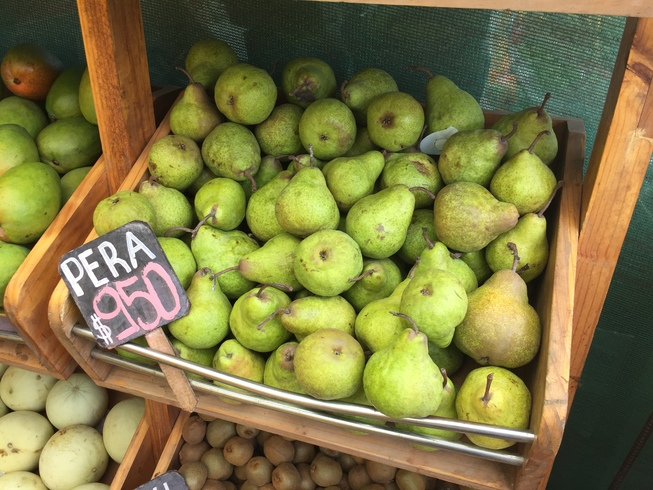precio: (59, 229, 187, 345)
